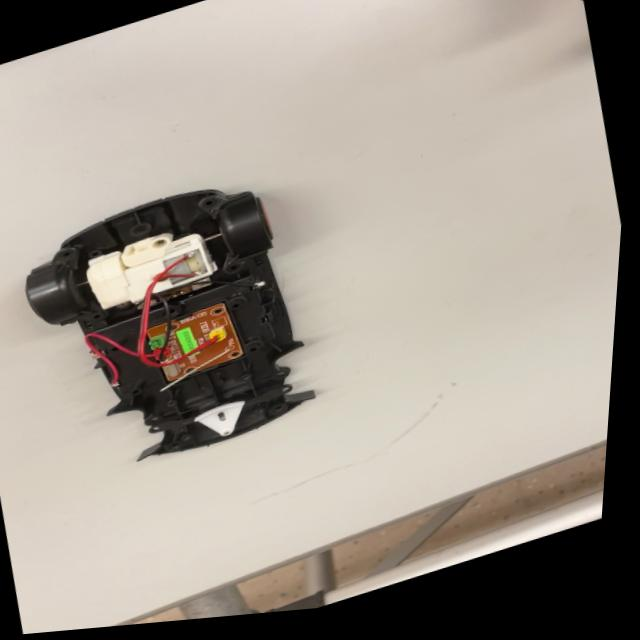Chassis: (28, 164, 330, 490)
